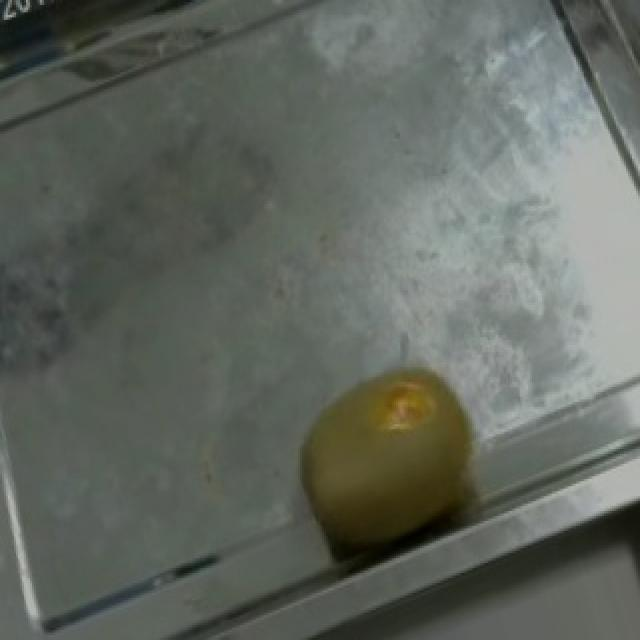Fruit: (262, 332, 514, 578)
